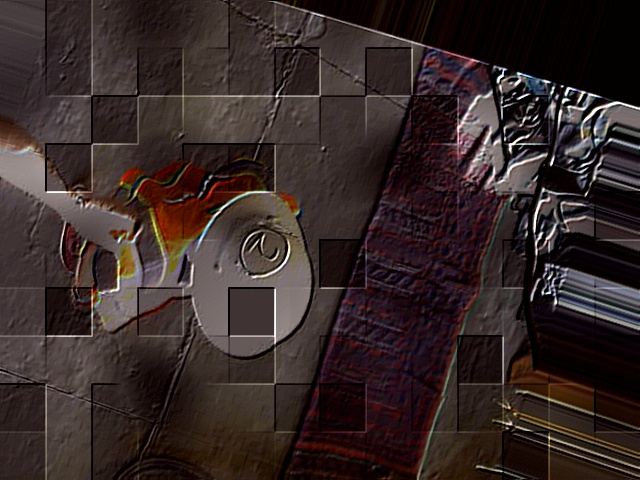two: (233, 223, 294, 285)
